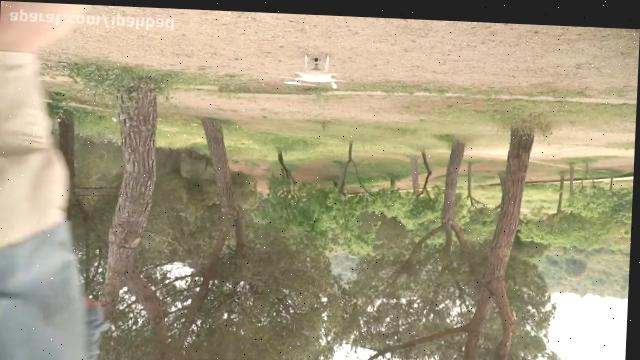drone: (282, 47, 348, 87)
